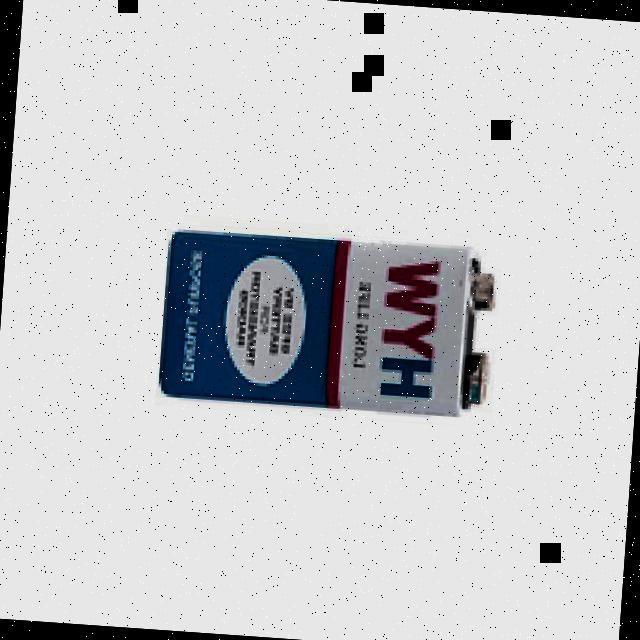battery: (158, 230, 493, 417)
